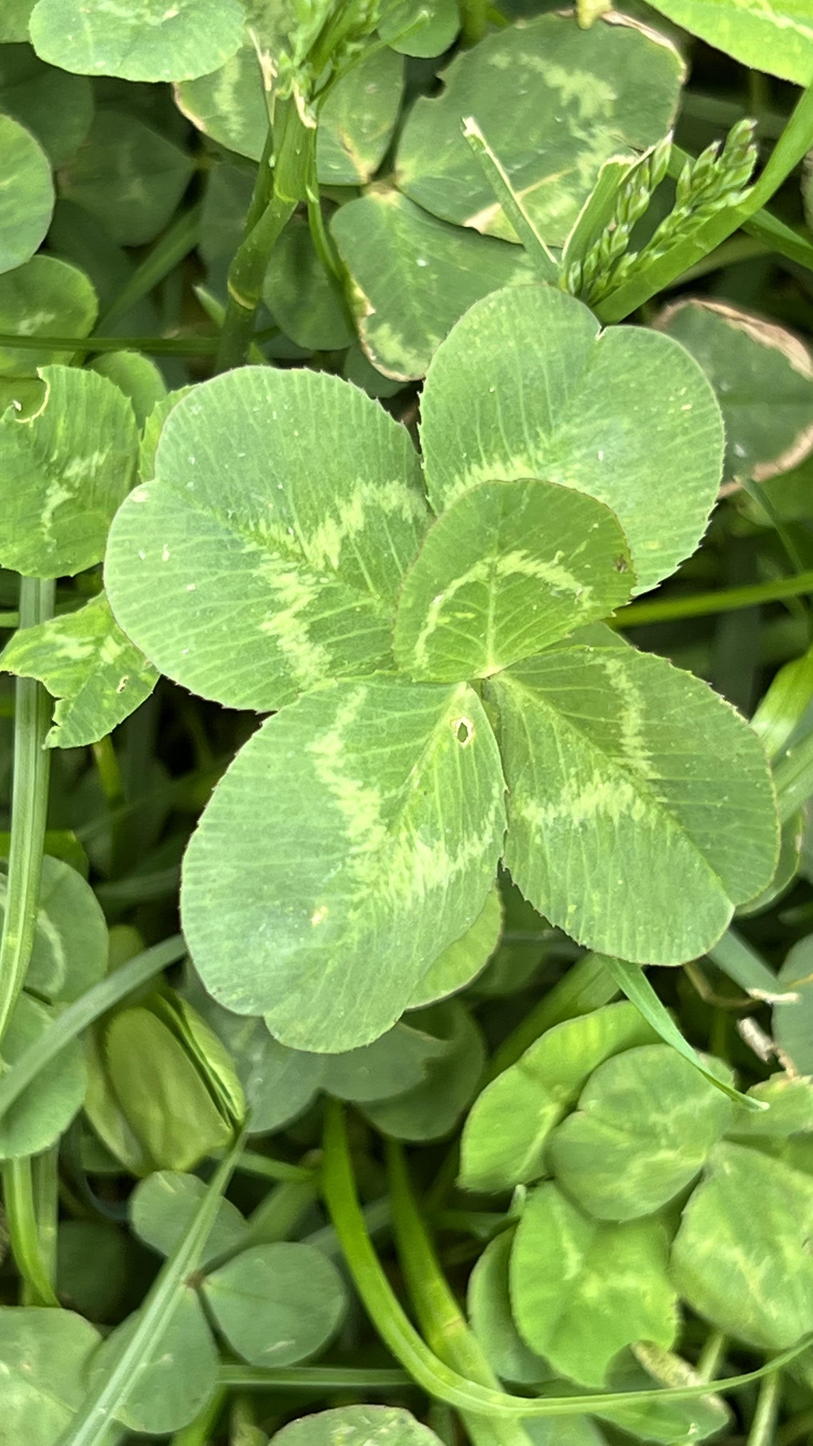5-Leaf-Clovers: (155, 60, 591, 1253)
